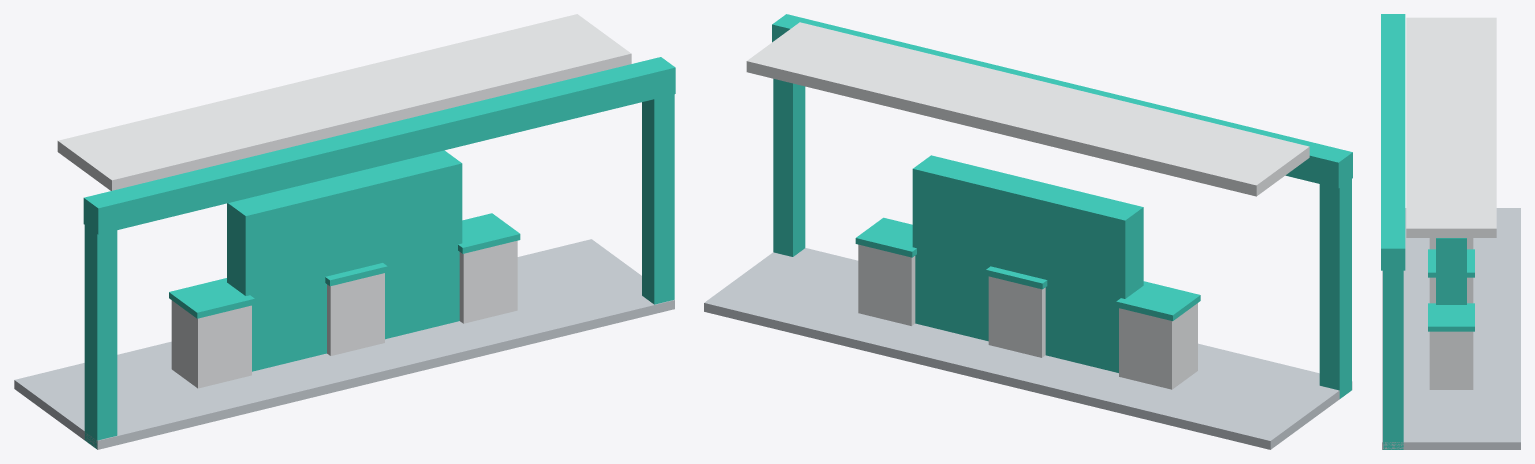
3 views of the same model, side by side, from view 1: azimuth 30°, elevation 25°; view 2: azimuth 150°, elevation 25°; view 3: azimuth 270°, elevation 25° (orthographic). The views are drawn at different scales.
Parts seen in each view (by area): view 1: Exhibition Booth Concept; view 2: Exhibition Booth Concept; view 3: Exhibition Booth Concept.
Boxes of the visible parts, box(x1,y1,x2,y2) form: Exhibition Booth Concept: box(14, 14, 675, 449); Exhibition Booth Concept: box(704, 14, 1352, 449); Exhibition Booth Concept: box(1381, 14, 1520, 449).
Bounding box in the file's own units: 8 × 3.34 × 2.01.
